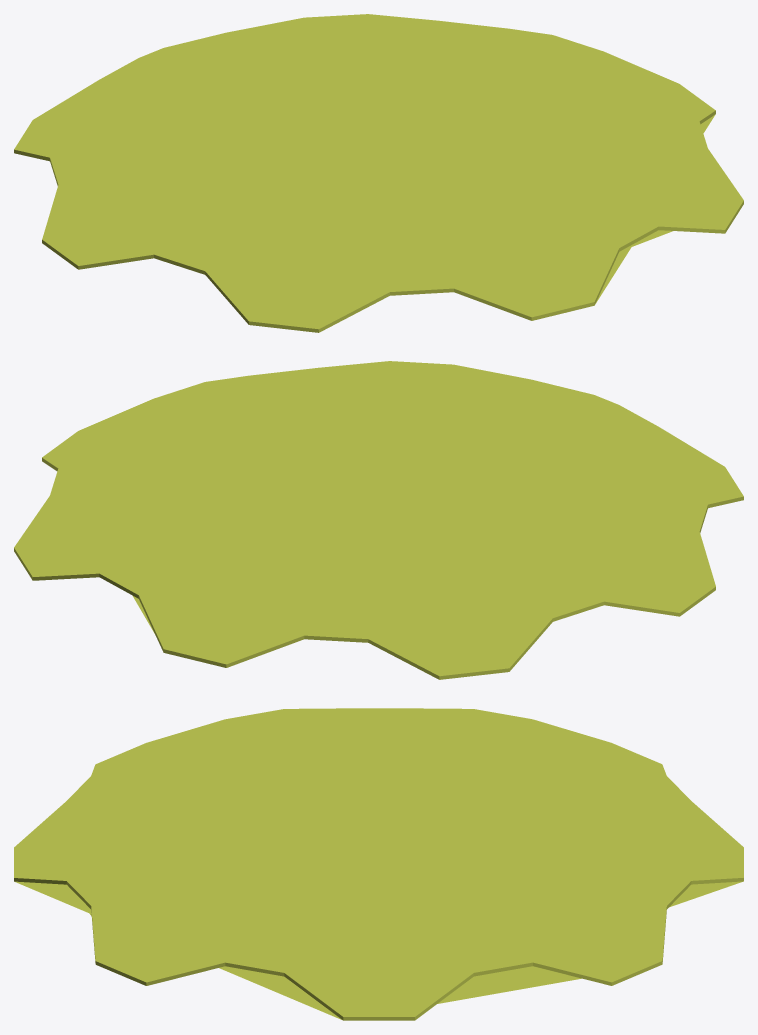
The model's file is salad.fbx.
The picture shows the model from 3 angles, top to bottom: view 1: azimuth 30°, elevation 25°; view 2: azimuth 150°, elevation 25°; view 3: azimuth 270°, elevation 25°; orthographic projection.
Visible parts, largest first — view 1: salata; view 2: salata; view 3: salata.
Part boxes in pixels (x1,y1,x2,y2): salata: (14, 14, 743, 332); salata: (14, 361, 743, 679); salata: (14, 708, 743, 1020).
Bounding box in the file's own units: 224 × 8.58 × 224.
Materials: 1 (1 with a texture image).
